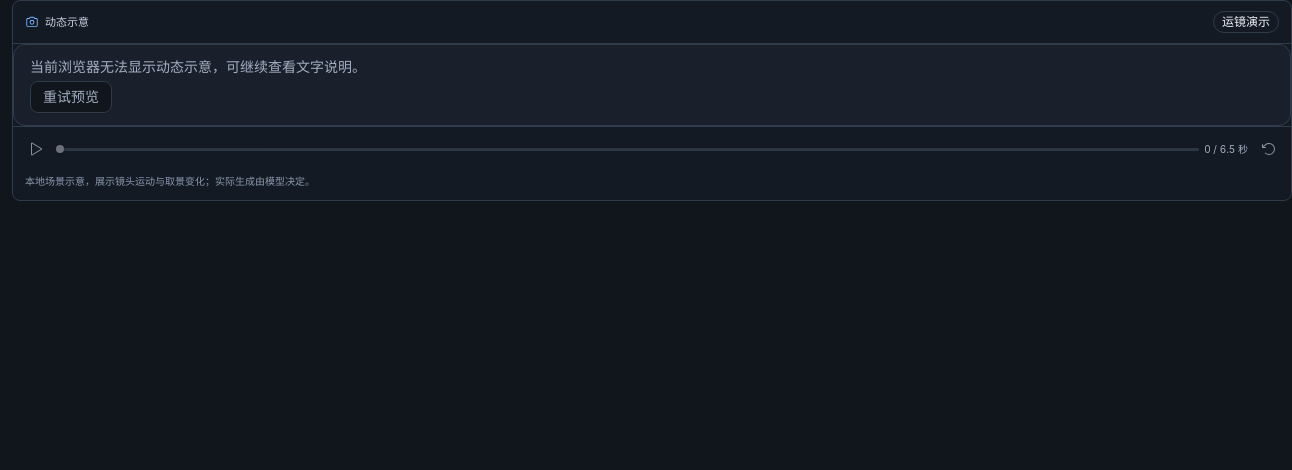
it: VideoCameraMotionPreview › keeps guidance available when canvas is unavailable and retries the local renderer
The image size is (1292, 470).
Expected: the message shows "当前浏览器无法显示动态示意", x1=30 y1=58 x2=366 y2=75
Expected: the button named "播放预览" is disabled, x1=19 y1=133 x2=51 y2=165
Click the button "重试预览": (71, 97) x1=30 y1=81 x2=112 y2=113
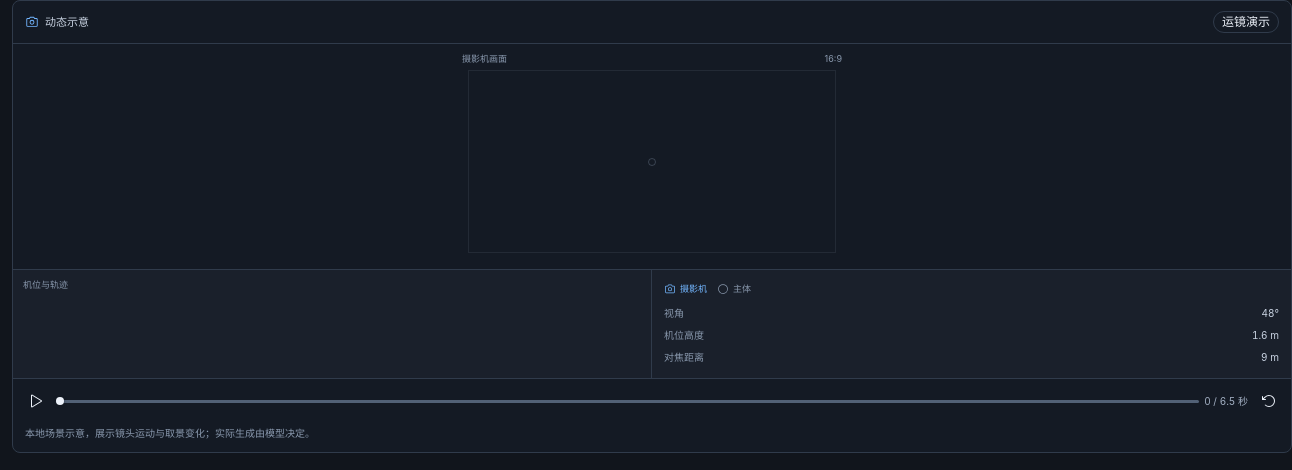
Expected: the message "当前浏览器无法显示动态示意，可继续查看文字说明。 重试预览" is gone
Expected: the number of pictures is 2, x1=452 y1=44 x2=852 y2=269; x1=13 y1=270 x2=651 y2=378
